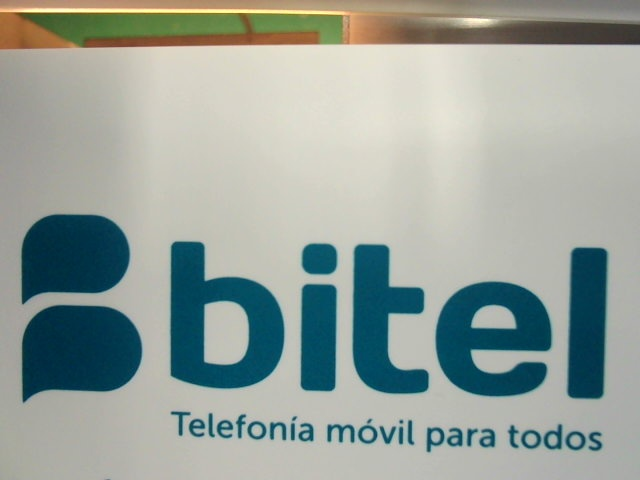BE_bitel: (14, 216, 603, 406)
